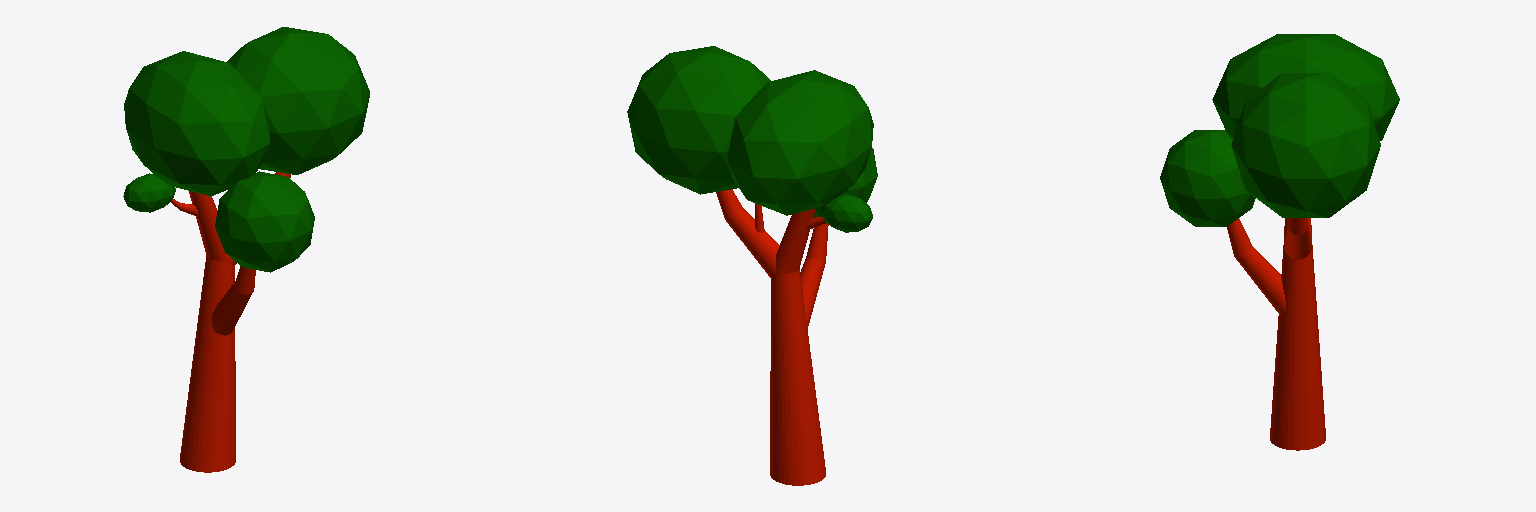
The model's file is lowPolyTree2.obj.
The picture shows the model from 3 angles: view 1: azimuth 30°, elevation 25°; view 2: azimuth 150°, elevation 25°; view 3: azimuth 270°, elevation 25°; orthographic projection.
Parts seen in each view (by area): view 1: Icosphere, Icosphere.001, Cylinder, Icosphere.002, Icosphere.003; view 2: Icosphere, Cylinder, Icosphere.001, Icosphere.003, Icosphere.002; view 3: Icosphere.001, Cylinder, Icosphere, Icosphere.002.
Boxes of the visible parts, x1,y1,x2,y2 form: Icosphere: [124, 51, 269, 196]; Icosphere.001: [227, 27, 369, 174]; Cylinder: [171, 172, 290, 472]; Icosphere.002: [215, 171, 314, 272]; Icosphere.003: [123, 173, 175, 212]; Icosphere: [727, 70, 873, 215]; Cylinder: [716, 189, 828, 485]; Icosphere.001: [627, 46, 770, 194]; Icosphere.003: [820, 194, 872, 232]; Icosphere.002: [814, 148, 877, 217]; Icosphere.001: [1231, 73, 1380, 217]; Cylinder: [1227, 218, 1325, 450]; Icosphere: [1212, 34, 1399, 140]; Icosphere.002: [1160, 130, 1255, 226].
Size of the model in its own units: 4.08 by 6.77 by 3.66.